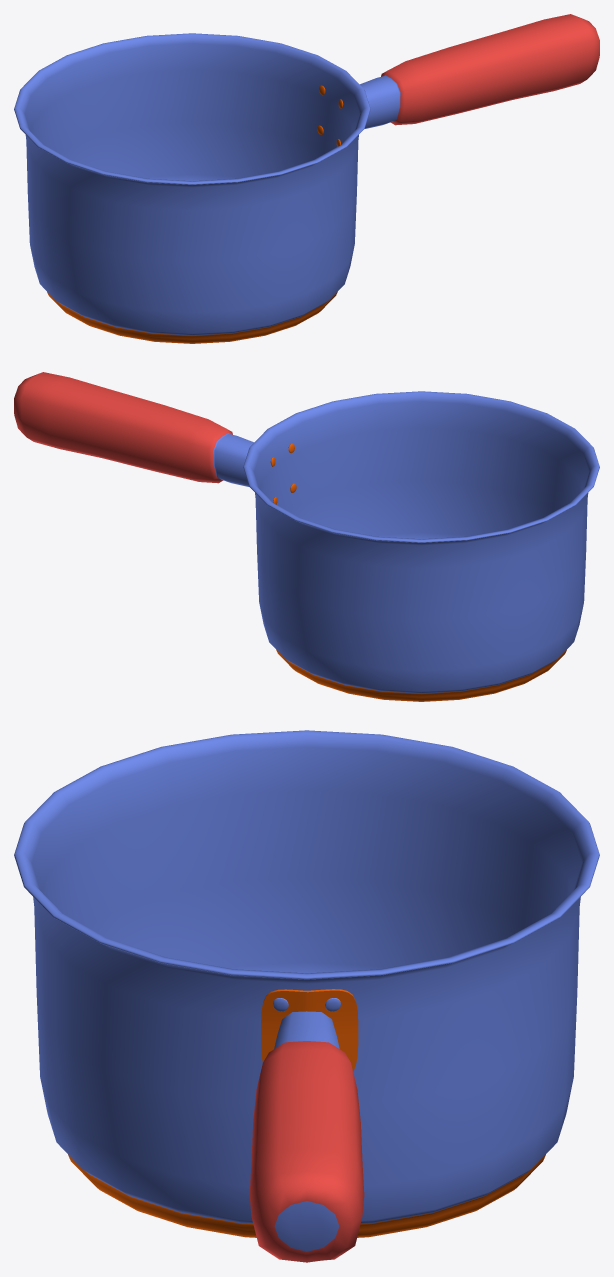
File: panela modelo .fbx
3 renders of one model, top to bottom at view 1: azimuth 30°, elevation 25°; view 2: azimuth 150°, elevation 25°; view 3: azimuth 270°, elevation 25°, orthographic. The views are drawn at different scales.
Visible parts, largest first — view 1: Cylinder, Cube; view 2: Cylinder, Cube; view 3: Cylinder, Cube, Plane.001.
Part boxes in pixels (x1=…): Cylinder: x1=14, y1=33, x2=370, y2=343; Cube: x1=360, y1=14, x2=599, y2=128; Cylinder: x1=243, y1=391, x2=599, y2=701; Cube: x1=14, y1=372, x2=253, y2=486; Cylinder: x1=14, y1=730, x2=599, y2=1237; Cube: x1=249, y1=1011, x2=364, y2=1262; Plane.001: x1=261, y1=989, x2=358, y2=1071.
Size of the model in its own units: 34.06 by 10.38 by 19.08.
